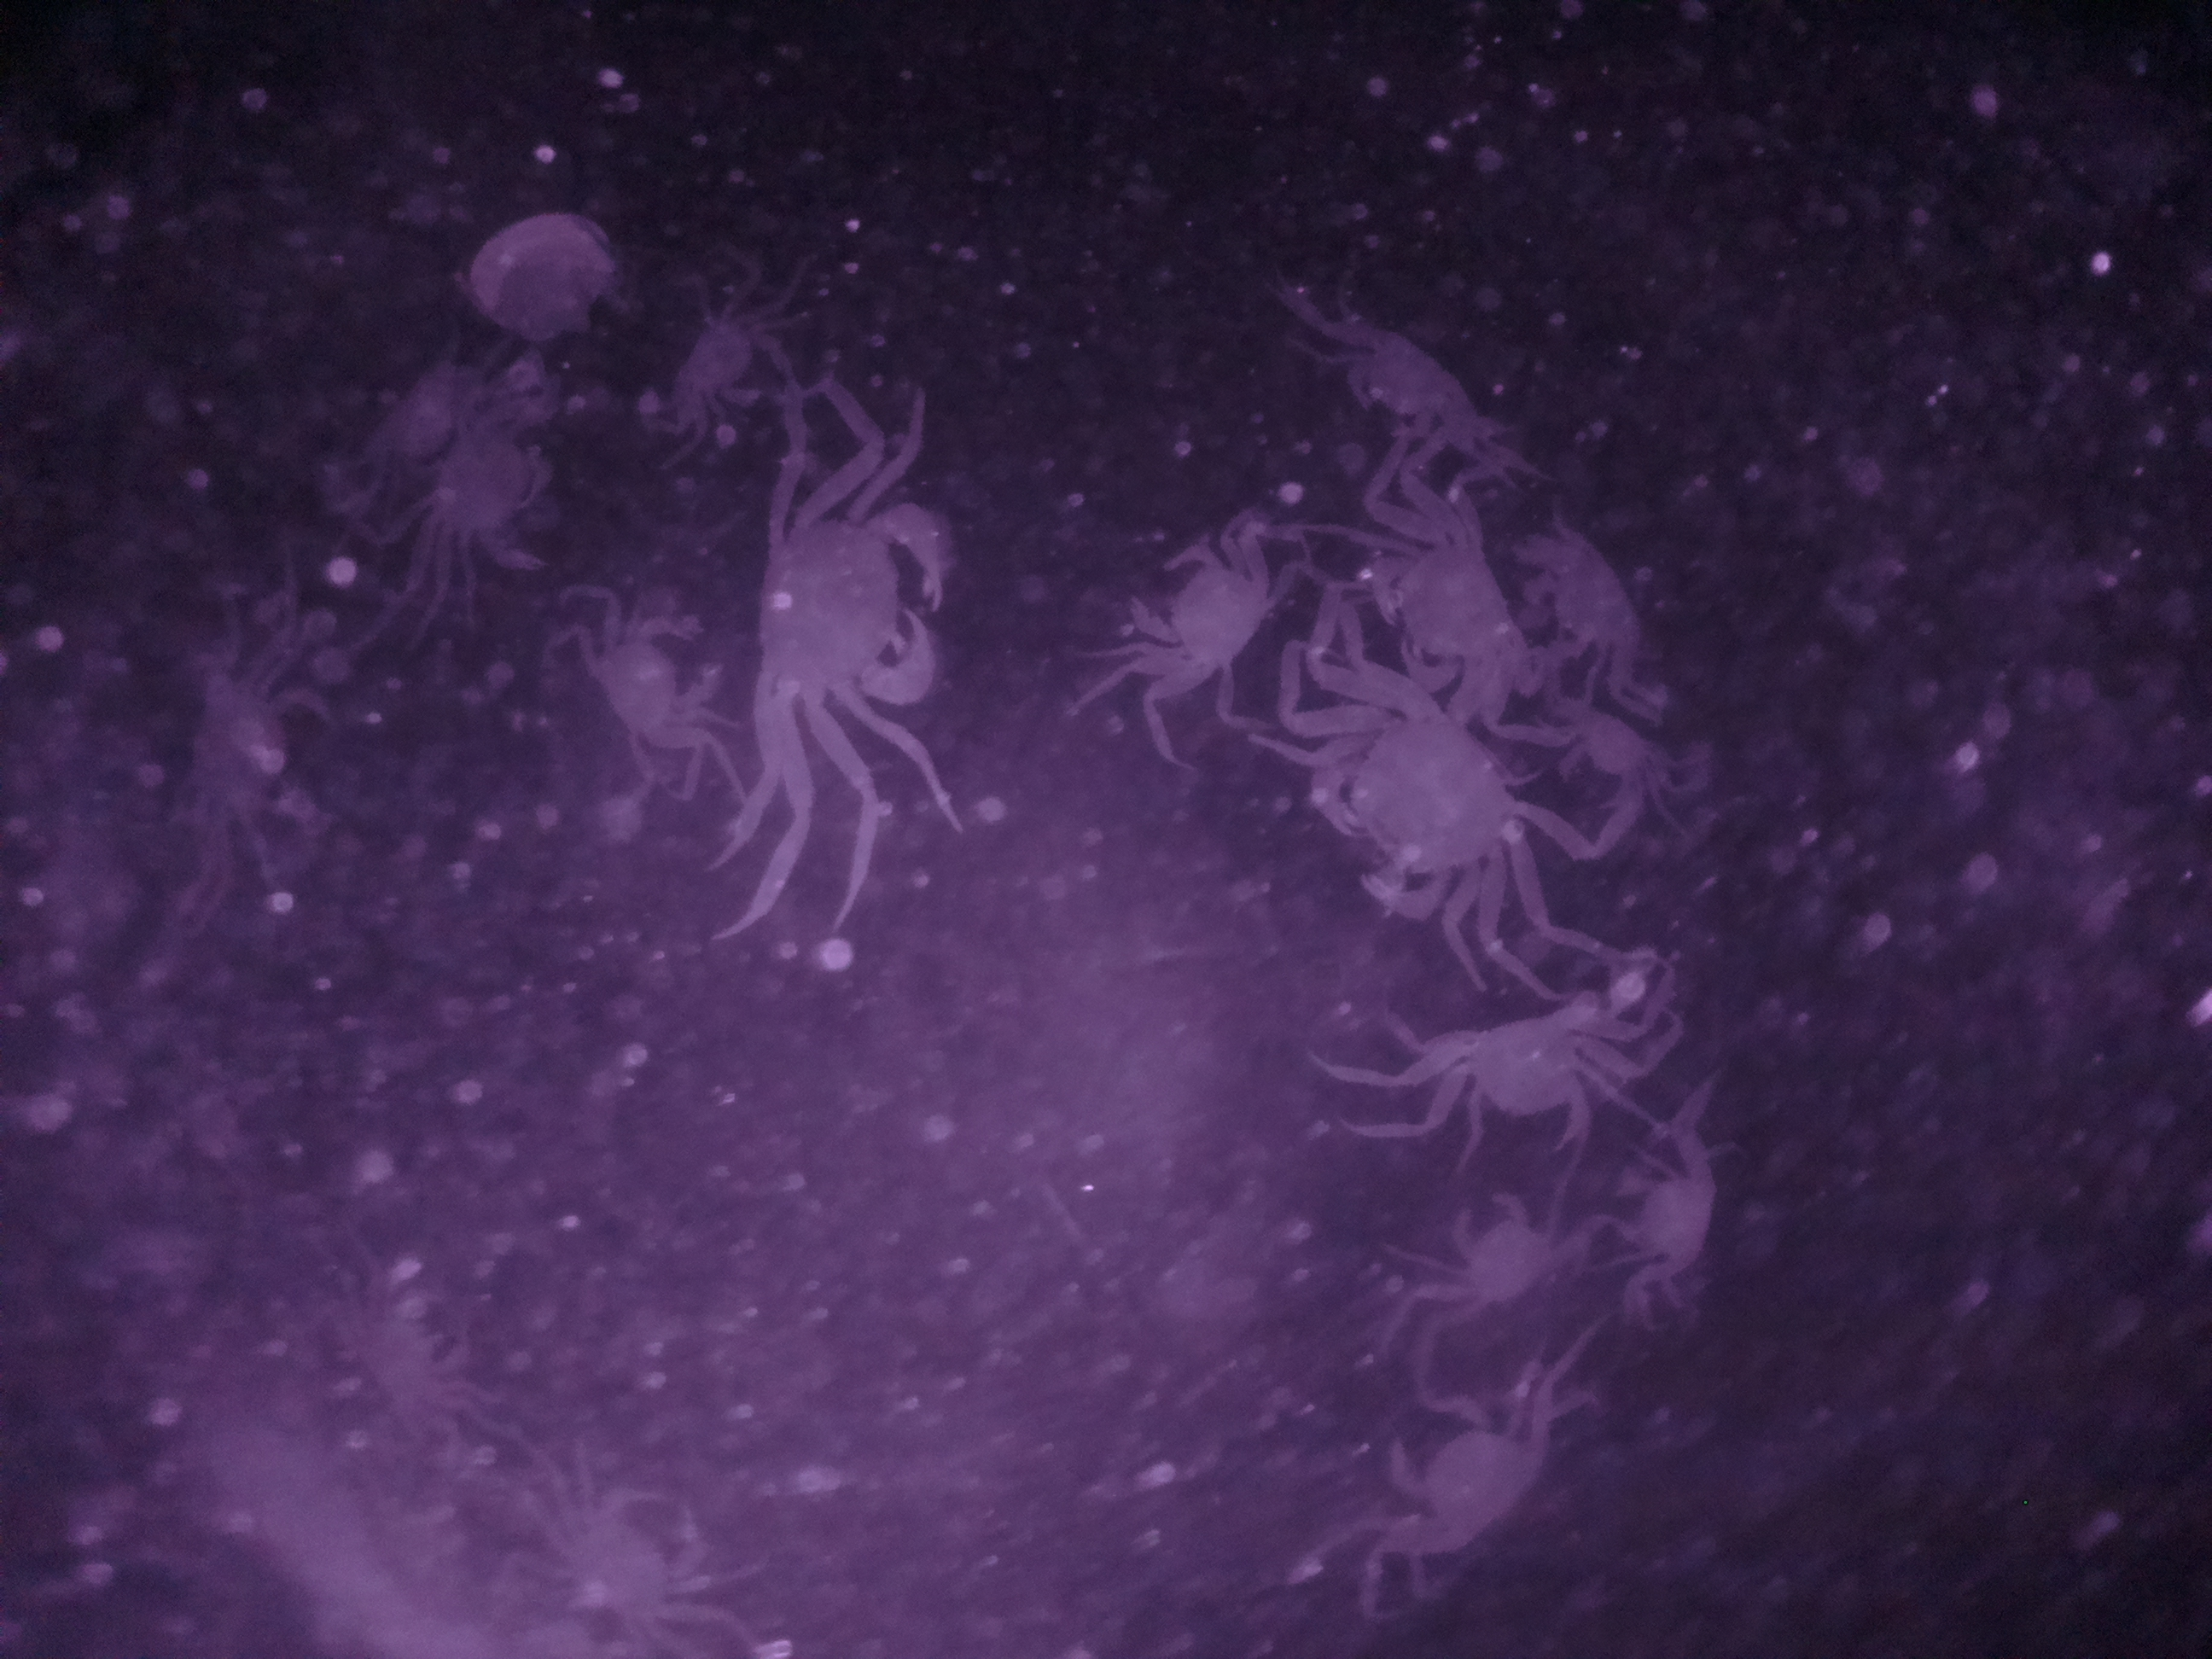Crab: (1278, 653, 1538, 945), (732, 462, 967, 762), (1399, 983, 1627, 1173), (1362, 1371, 1562, 1588), (1127, 509, 1278, 711), (655, 282, 799, 437), (1608, 1145, 1749, 1291), (1336, 305, 1474, 453), (1440, 1187, 1569, 1316)
